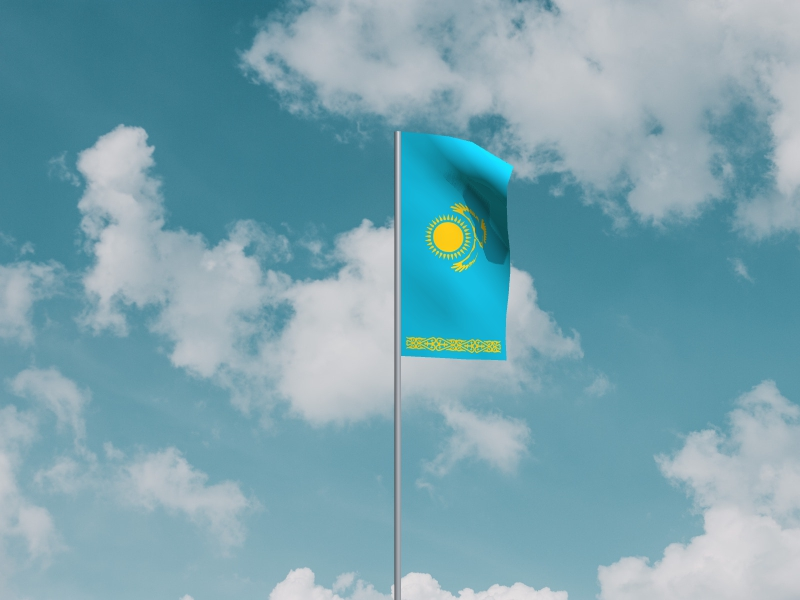kz: (402, 132, 515, 363)
